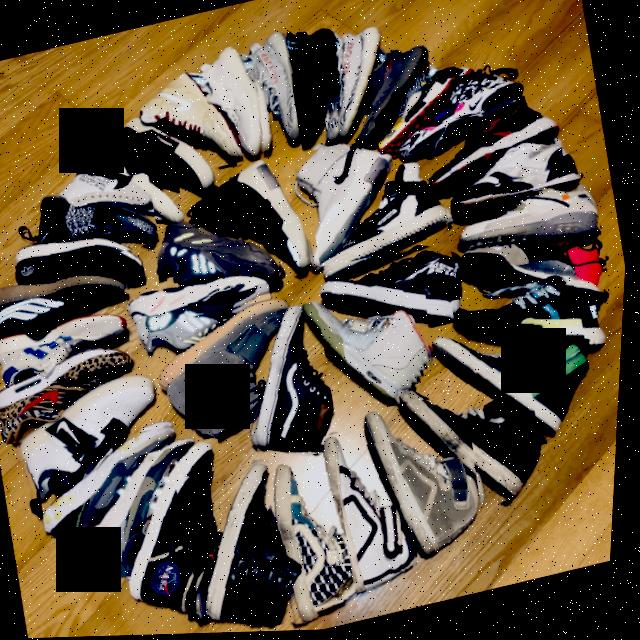shoe: (32, 415, 225, 594), (107, 437, 259, 637), (429, 305, 609, 470), (147, 294, 323, 456), (397, 363, 559, 529), (356, 391, 501, 570), (173, 456, 309, 635), (7, 367, 179, 502), (300, 276, 452, 426), (177, 149, 321, 301), (314, 420, 435, 599), (450, 216, 620, 341), (229, 302, 352, 474), (305, 157, 464, 287), (258, 450, 372, 629), (451, 268, 619, 383), (284, 126, 414, 273), (316, 237, 475, 354), (50, 128, 190, 249), (149, 199, 291, 317), (0, 333, 149, 445), (85, 101, 225, 220), (420, 98, 572, 204), (127, 263, 282, 364), (15, 172, 165, 276), (127, 61, 249, 185), (450, 178, 611, 271), (389, 63, 535, 165), (11, 217, 152, 315), (335, 35, 448, 157), (365, 53, 489, 158), (443, 136, 588, 223), (184, 42, 278, 174), (0, 305, 141, 390), (314, 20, 405, 150), (0, 257, 137, 342), (279, 22, 361, 155), (234, 28, 315, 162)
